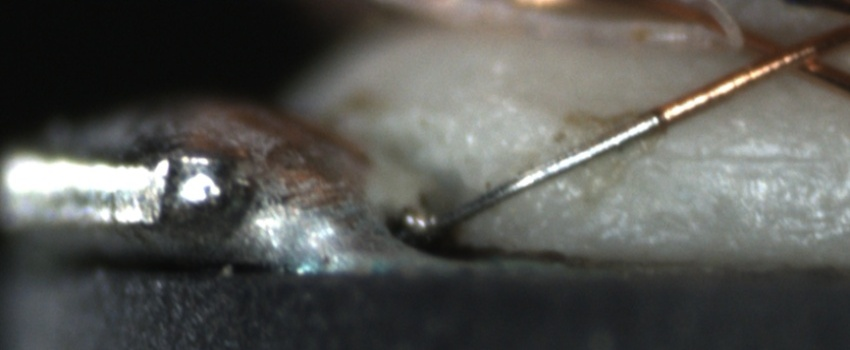CL: (742, 27, 837, 86)
DL: (626, 126, 850, 190)
TS: (412, 112, 661, 235)
